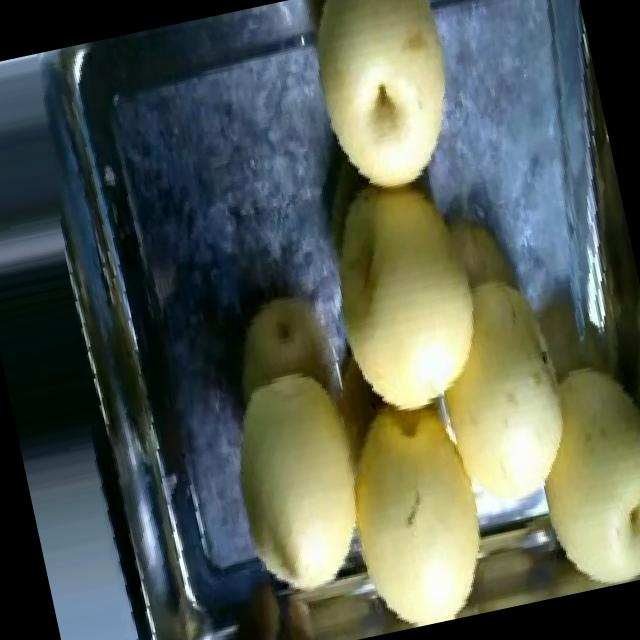Fruit: (267, 120, 590, 453), (284, 338, 543, 640), (207, 334, 411, 616), (283, 0, 489, 217), (478, 328, 640, 602)
